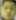without_mask: (1, 2, 16, 20)
